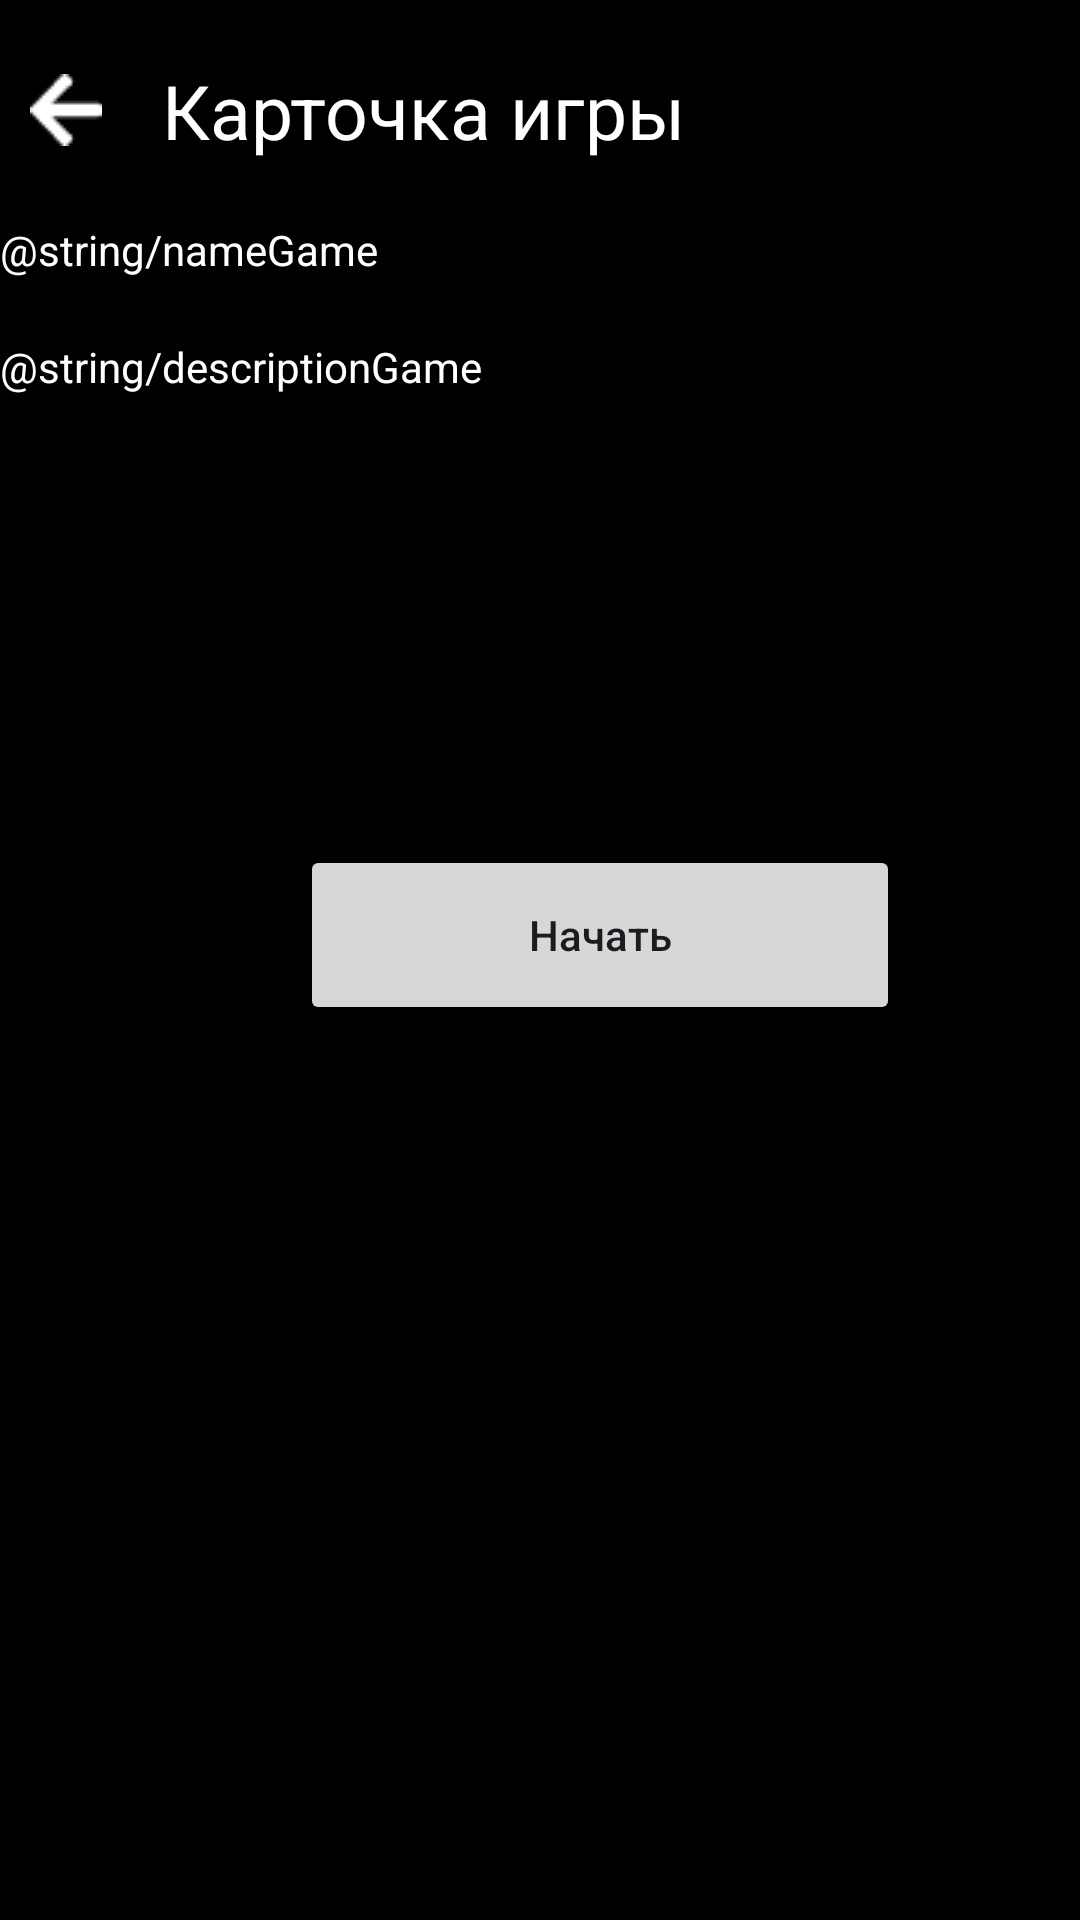

Screen size 1080px x 1920px. Icon name, then its center in pixels as [x,y]:
backbtn: [66,110]
